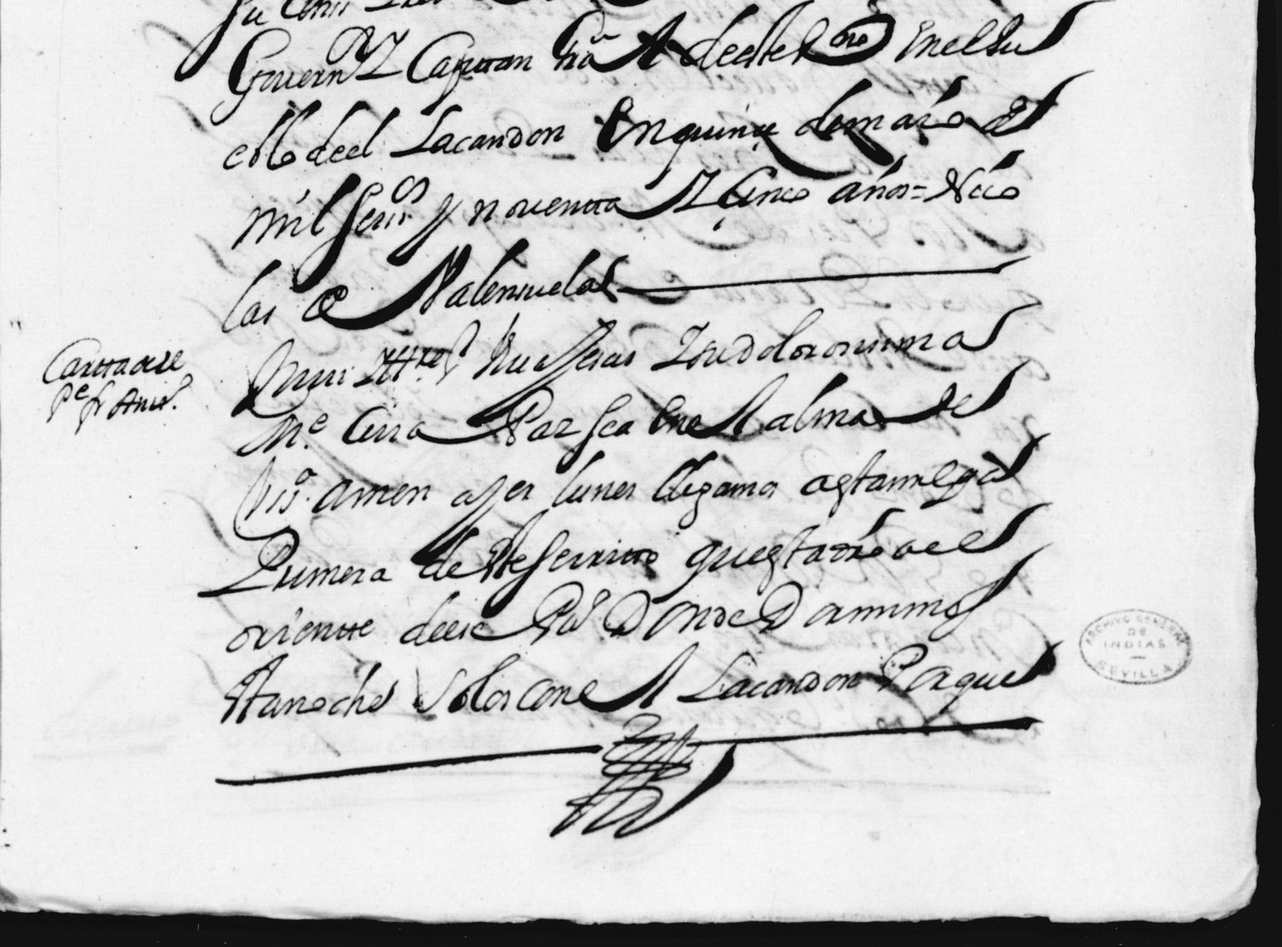lacandon: (677, 651, 862, 702), (390, 104, 565, 157)
